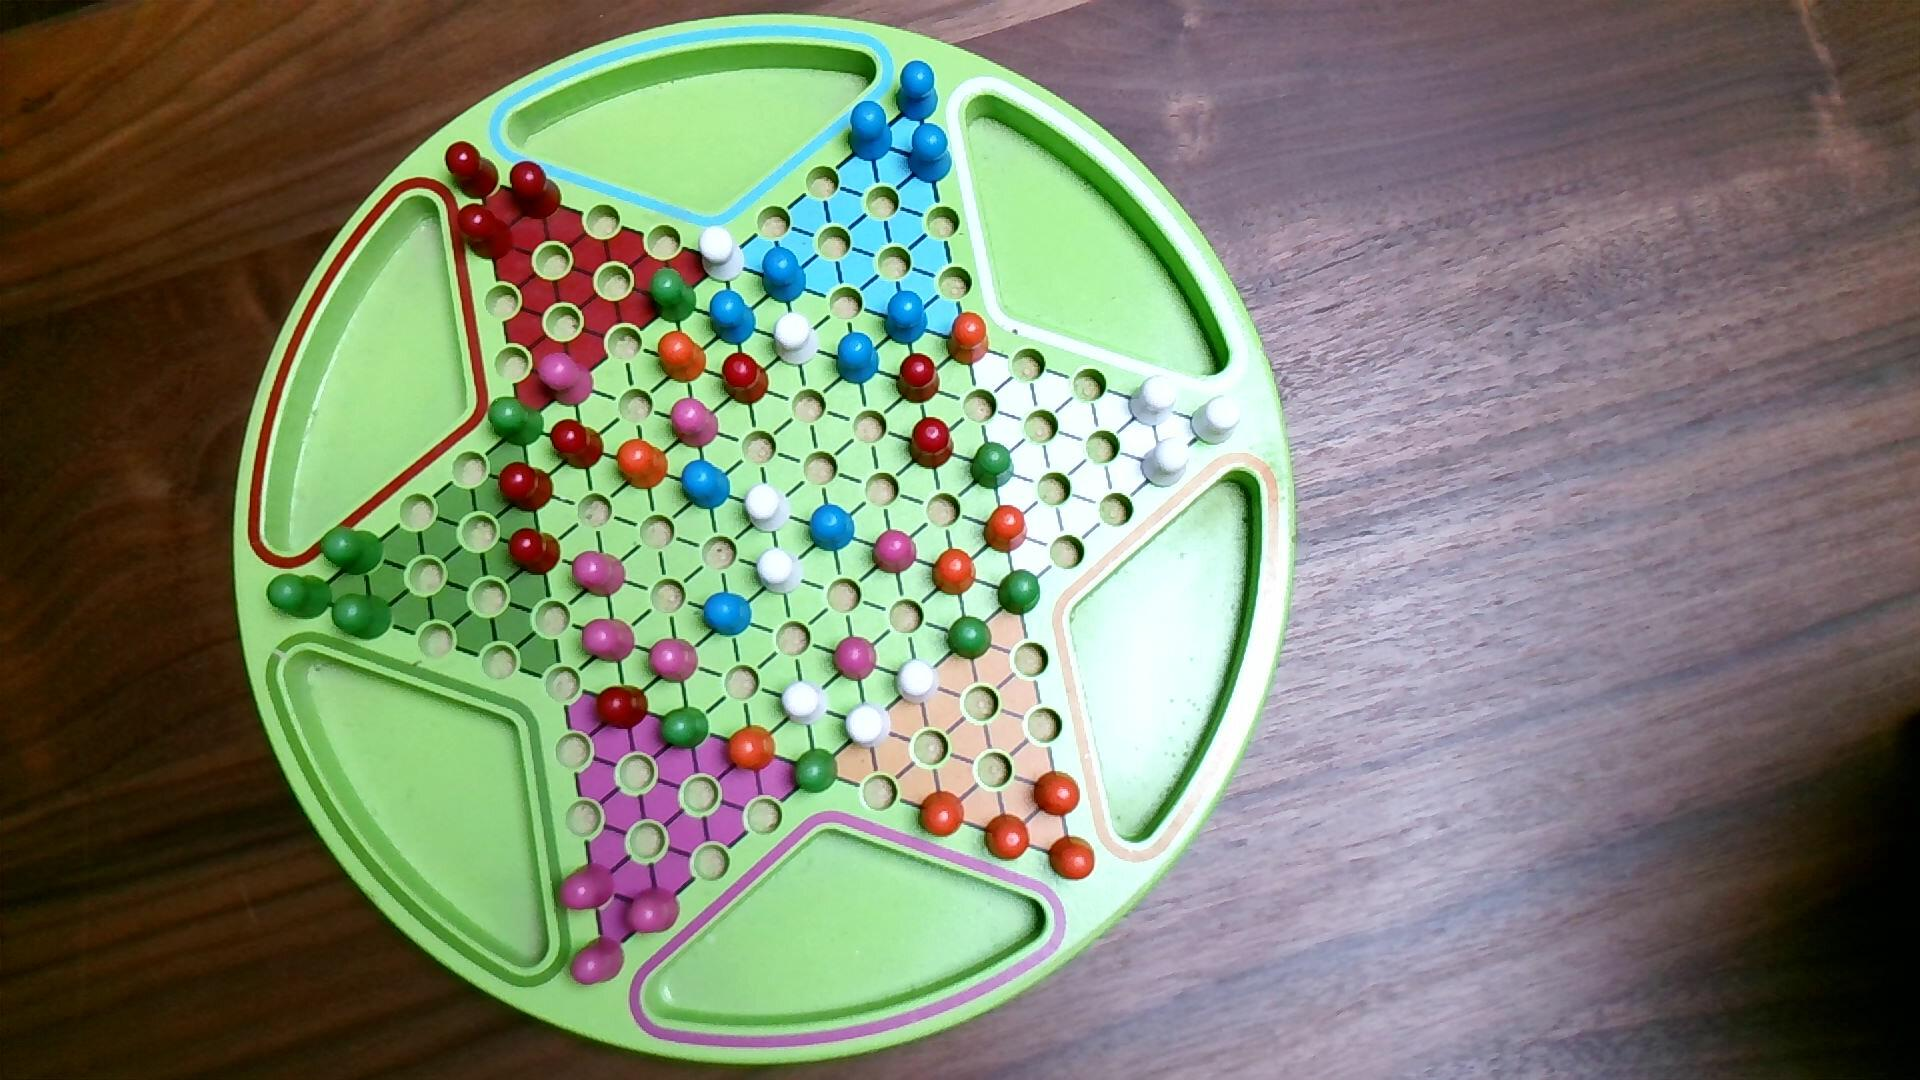B: (847, 100, 895, 164), (709, 287, 758, 348), (760, 245, 808, 306), (895, 59, 942, 123), (907, 123, 953, 185), (680, 458, 733, 512), (702, 591, 756, 640), (884, 290, 930, 347), (807, 502, 857, 554), (835, 331, 881, 386)
G: (319, 525, 386, 578), (266, 572, 334, 621), (332, 592, 396, 642), (487, 396, 546, 448), (647, 266, 698, 324), (793, 746, 841, 796), (659, 705, 712, 752), (969, 440, 1015, 492), (996, 568, 1042, 618), (947, 615, 994, 661)
O: (655, 328, 709, 386), (615, 438, 671, 492), (724, 723, 779, 774), (1033, 767, 1083, 822), (945, 310, 992, 368), (982, 811, 1033, 864), (1046, 833, 1098, 884), (916, 789, 967, 840), (982, 502, 1030, 556), (930, 547, 978, 597)
R: (455, 202, 516, 262), (443, 141, 501, 202), (508, 160, 564, 222), (497, 462, 556, 516), (549, 418, 607, 471), (720, 351, 771, 407), (506, 527, 563, 578), (907, 415, 956, 472), (593, 684, 651, 732), (895, 352, 942, 406)
R2: (535, 349, 596, 410), (556, 861, 618, 913), (568, 935, 626, 988), (622, 885, 682, 936), (669, 396, 721, 451), (571, 549, 628, 600), (646, 636, 702, 686), (580, 616, 637, 665), (831, 634, 880, 684), (872, 527, 919, 578)
W: (1126, 373, 1180, 429), (1189, 394, 1244, 448), (698, 225, 746, 285), (1139, 436, 1192, 491), (771, 311, 820, 369), (742, 481, 794, 535), (843, 700, 894, 752), (754, 545, 806, 596), (778, 678, 829, 728), (893, 657, 943, 708)
